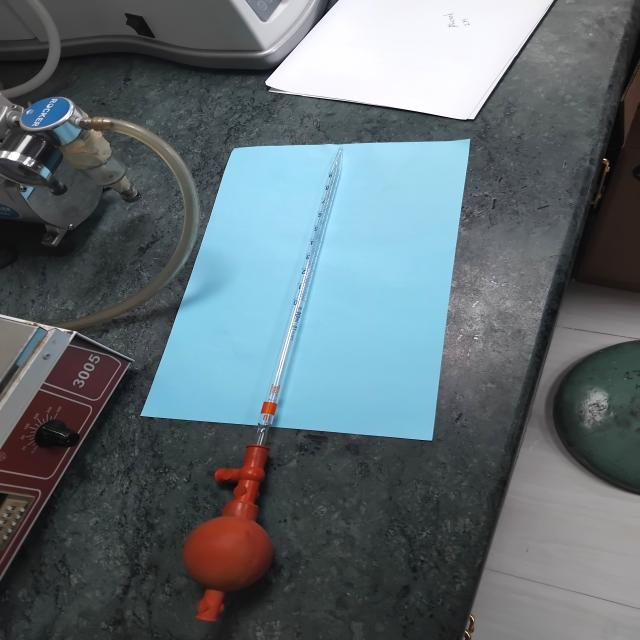Volumetric_Pipet: (119, 132, 392, 640)
